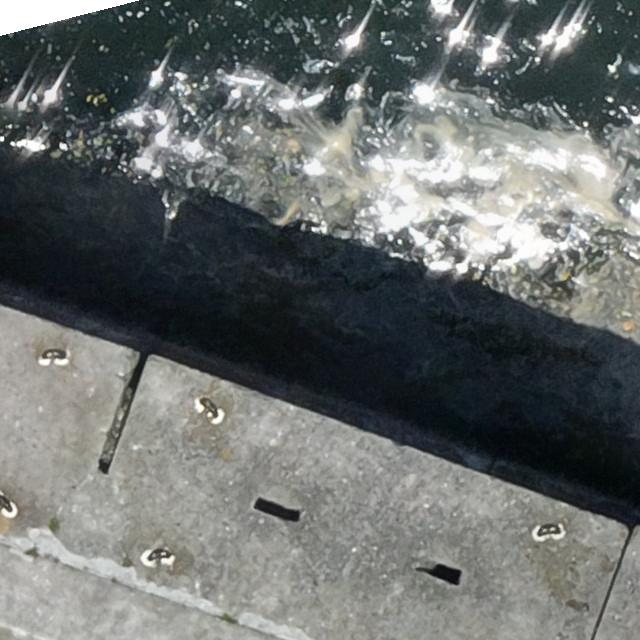umineko: (431, 569, 464, 585)
